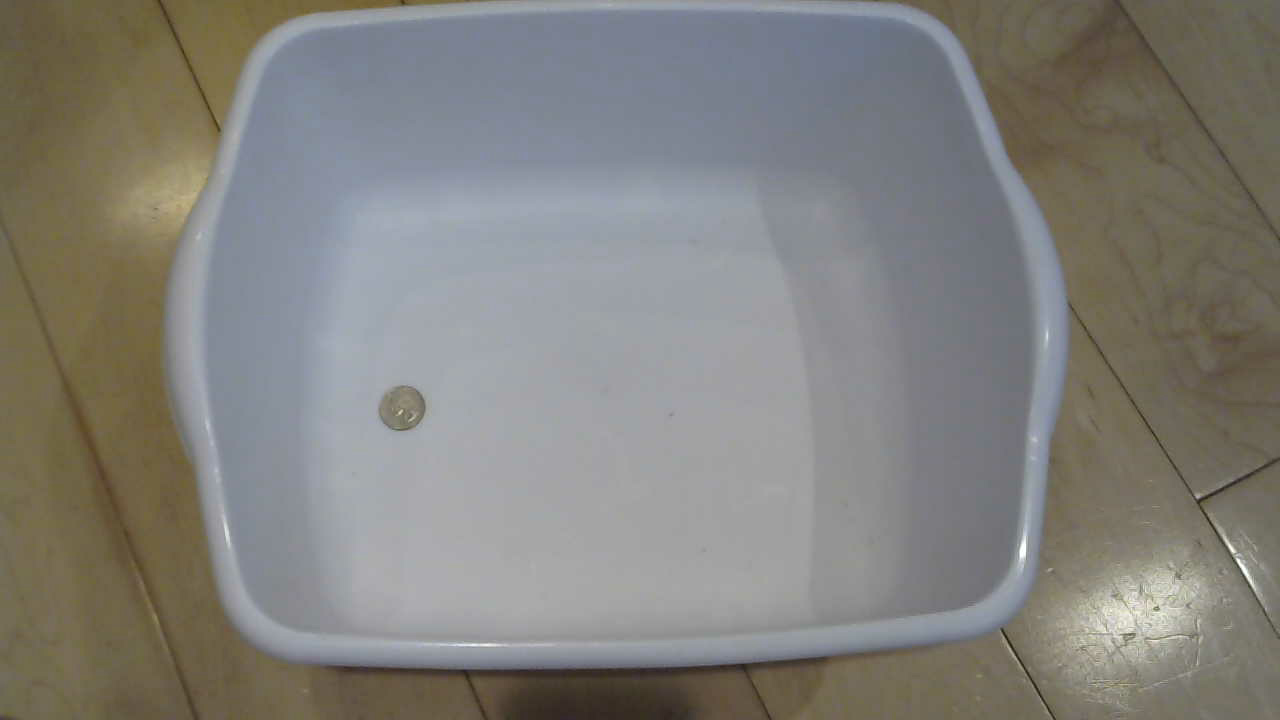coin: (371, 387, 451, 443)
